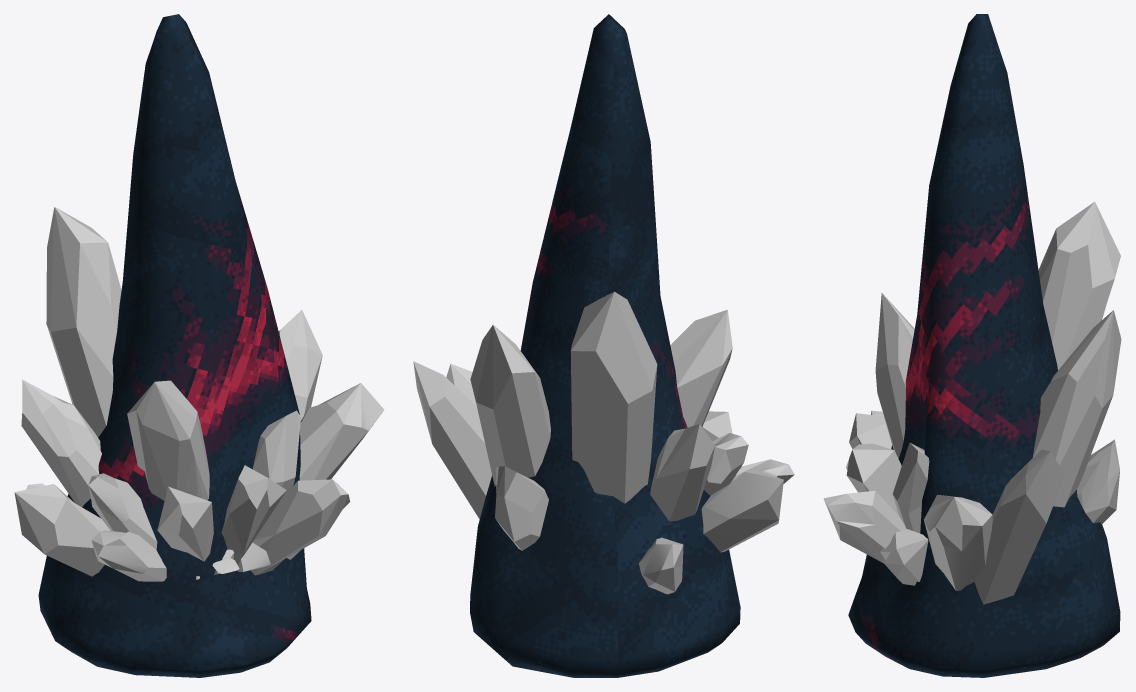
File: Tipped crystal.fbx
3 views of the same model, side by side, from view 1: azimuth 30°, elevation 25°; view 2: azimuth 150°, elevation 25°; view 3: azimuth 270°, elevation 25° (orthographic).
Visible parts, largest first — view 1: stalagmite_4, crystal17_2; view 2: stalagmite_4, crystal17_2; view 3: stalagmite_4, crystal17_2.
Boxes of the visible parts, x1=… form: stalagmite_4: x1=38, y1=14, x2=311, y2=677; crystal17_2: x1=14, y1=207, x2=384, y2=581; stalagmite_4: x1=470, y1=14, x2=740, y2=677; crystal17_2: x1=413, y1=291, x2=794, y2=594; stalagmite_4: x1=848, y1=14, x2=1120, y2=677; crystal17_2: x1=823, y1=201, x2=1121, y2=604.
Size of the model in its own units: 87.41 by 146 by 63.9.
